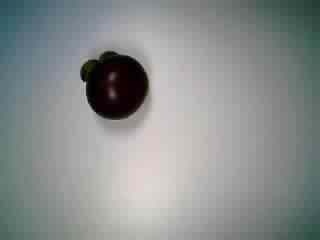mangosteen: (74, 46, 149, 121)
